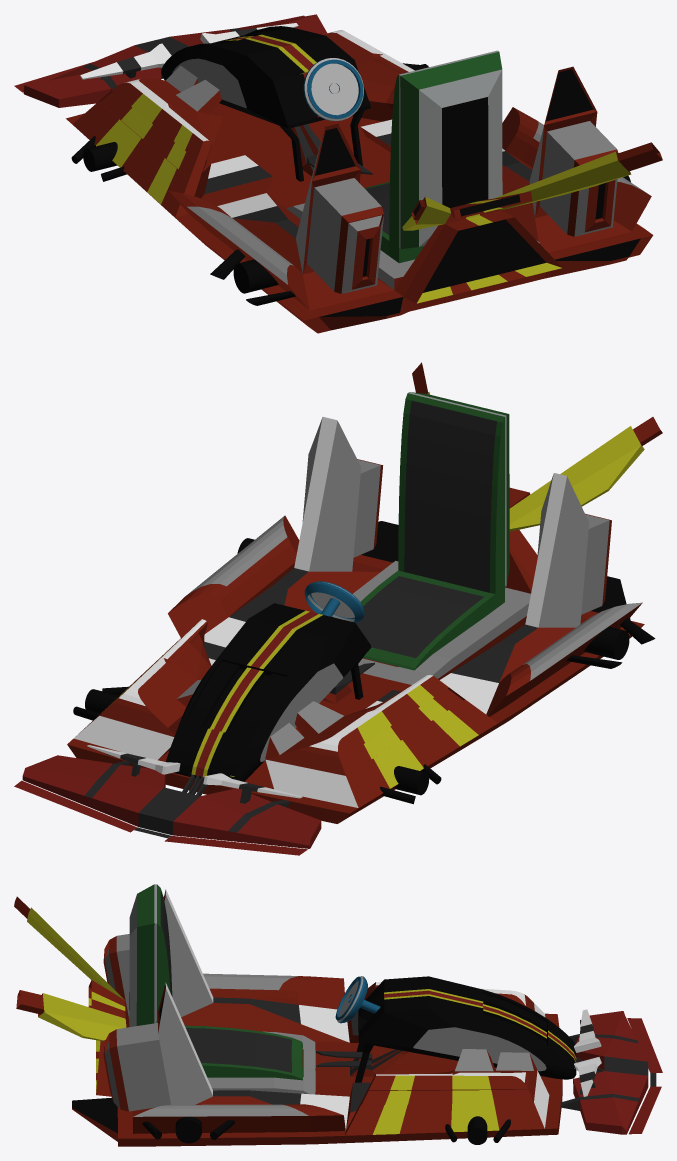
Rendered from kart.fbx.
3 renders of one model, top to bottom at view 1: azimuth 30°, elevation 25°; view 2: azimuth 150°, elevation 25°; view 3: azimuth 270°, elevation 25°, orthographic. The views are drawn at different scales.
Parts seen in each view (by area): view 1: rodas.002; view 2: rodas.002; view 3: rodas.002.
Part boxes in pixels (x1,y1,x2,y2): rodas.002: (14, 14, 662, 333); rodas.002: (14, 362, 662, 855); rodas.002: (14, 884, 662, 1146).
Bounding box in the file's own units: 581 × 299 × 997.
